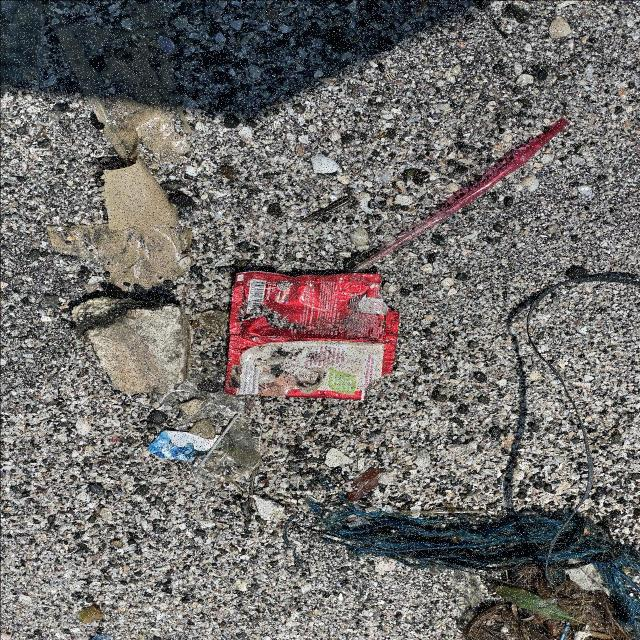plastic_waste: (350, 117, 572, 273), (223, 270, 402, 402), (194, 415, 239, 473)
styrofoam_waste: (86, 304, 191, 396)
